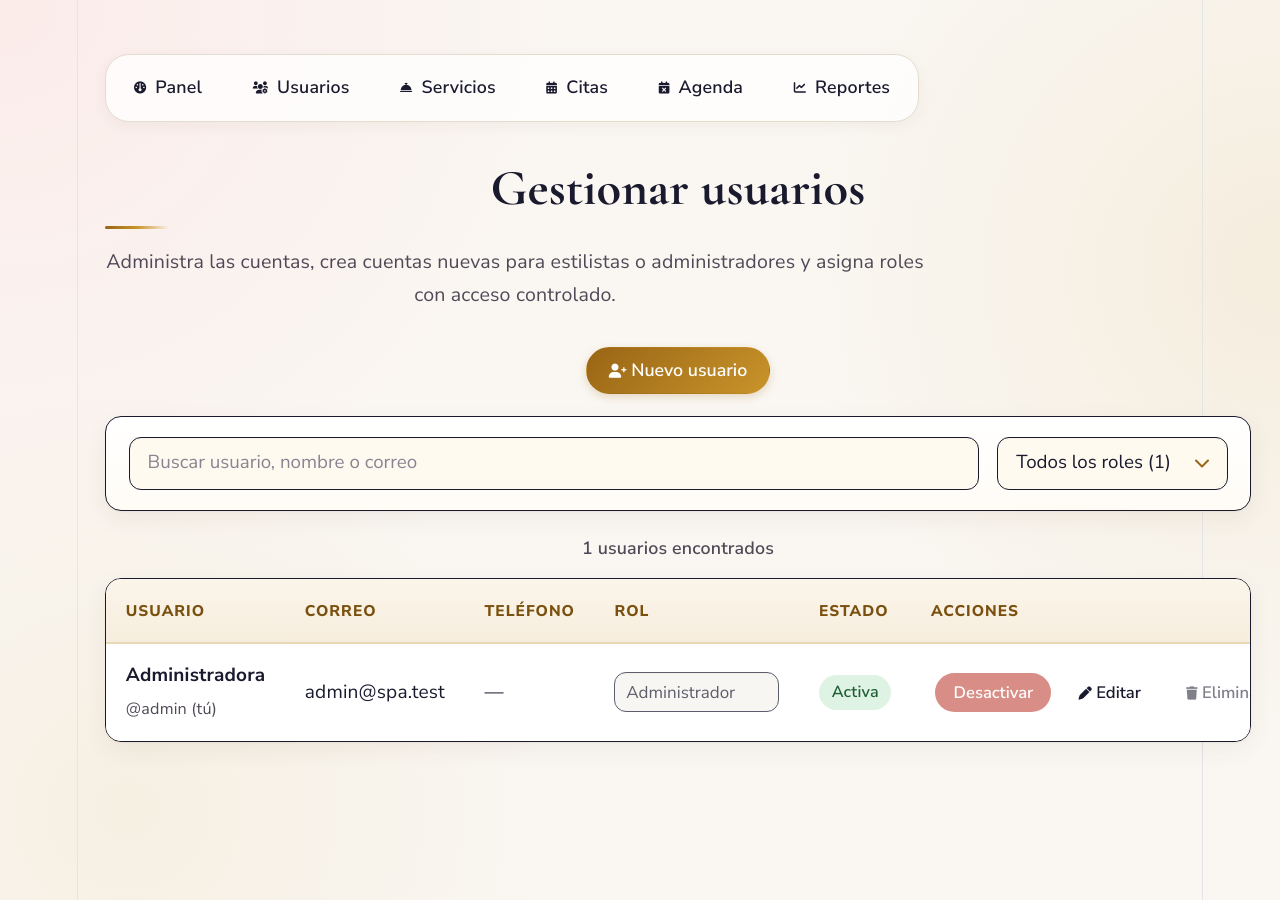
Test: AdminUsers › crea una cuenta con el rol elegido y recarga la lista
This screenshot has width=1280, height=900.
Expected: the text "Administradora" is shown, [126,659,265,692]
Click the button "Nuevo usuario": (678, 370) [586,347,770,394]
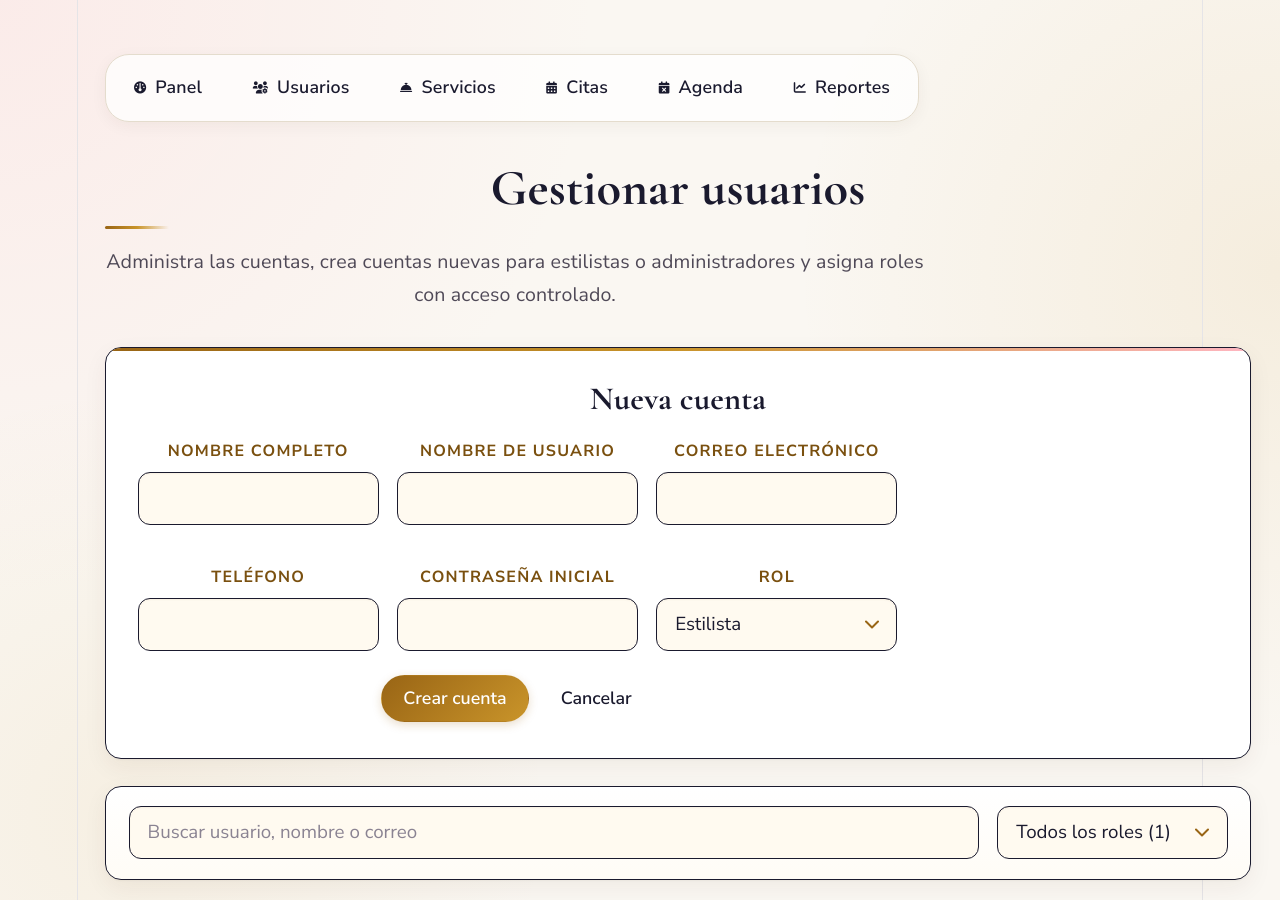
In the field labelled "Nombre completo": (258, 498) [138,472,379,525], type "Lina Gómez"
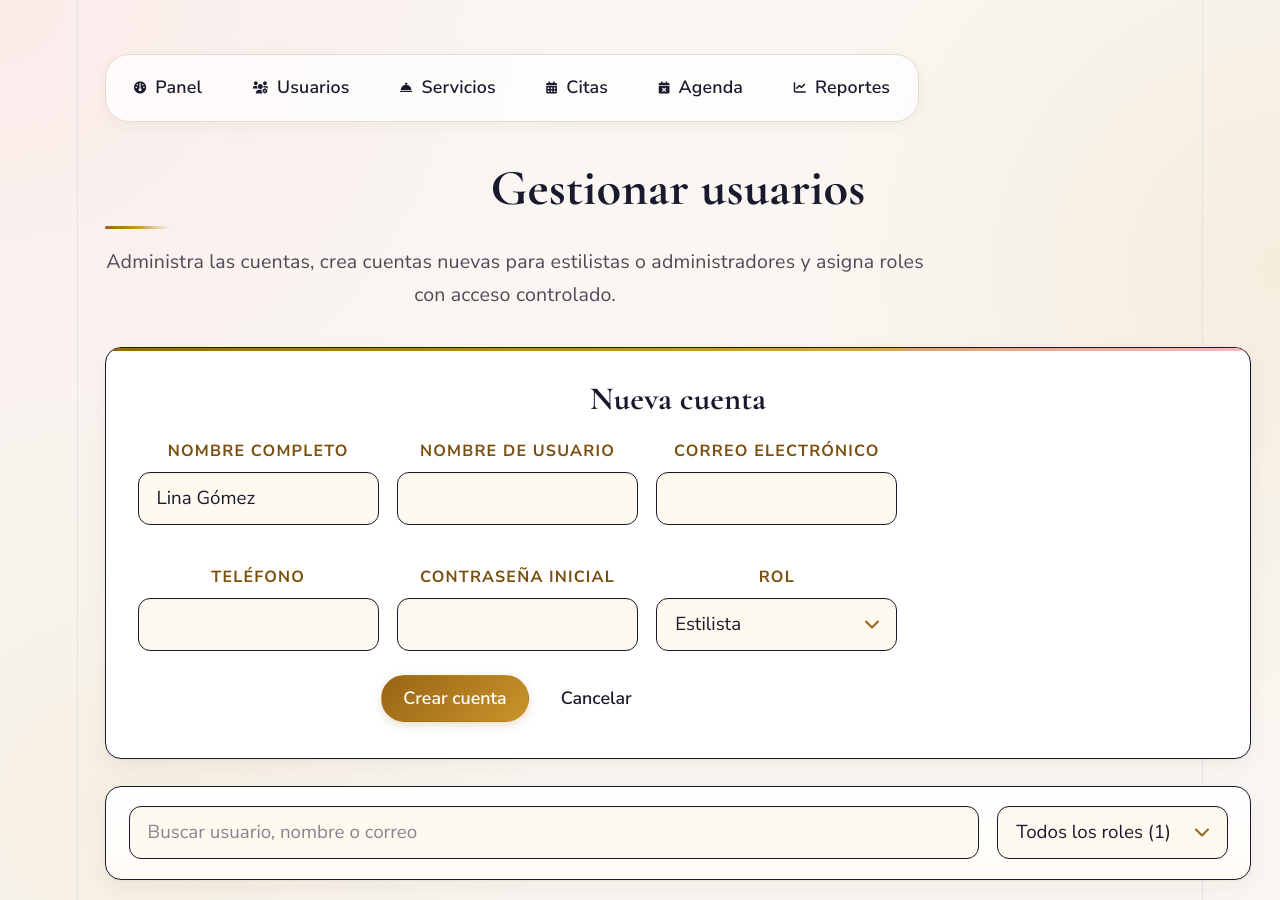
In the field labelled "Nombre de usuario": (517, 498) [397,472,638,525], type "lina"
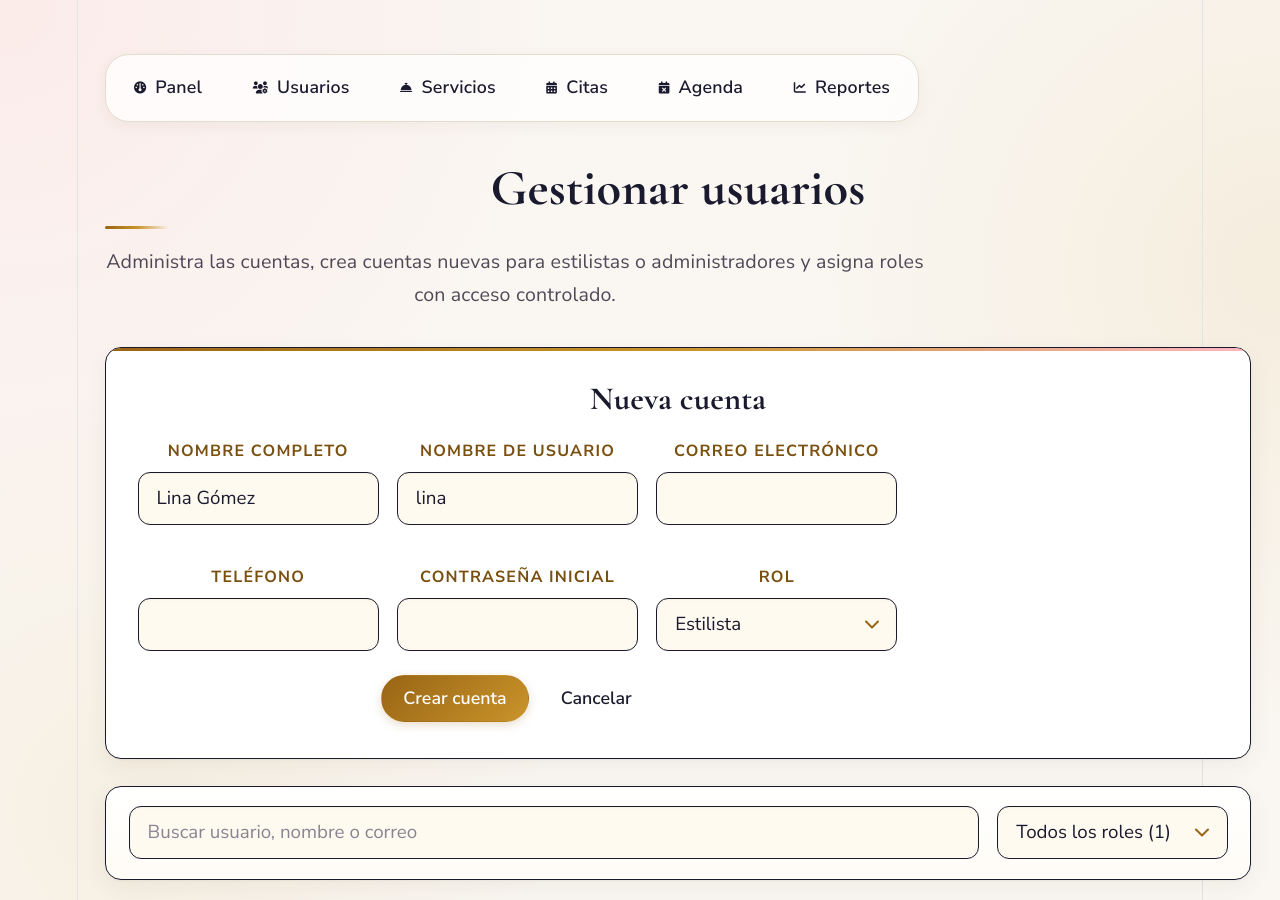
In the field labelled "Correo electrónico": (777, 498) [656,472,898,525], type "lina@spa.test"
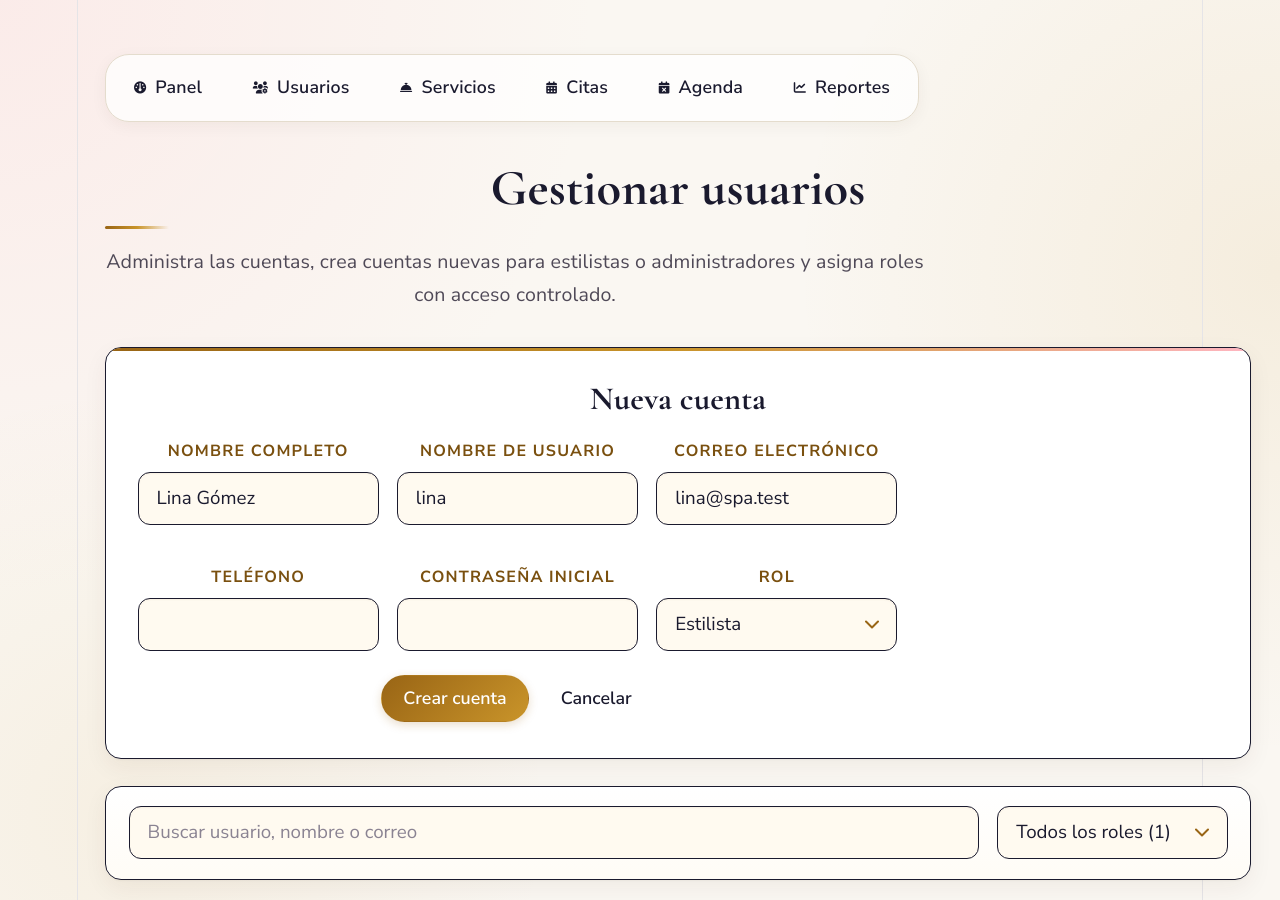
In the password field labelled "Contraseña inicial": (517, 625) [397,598,638,651], type "lina-clave-123"
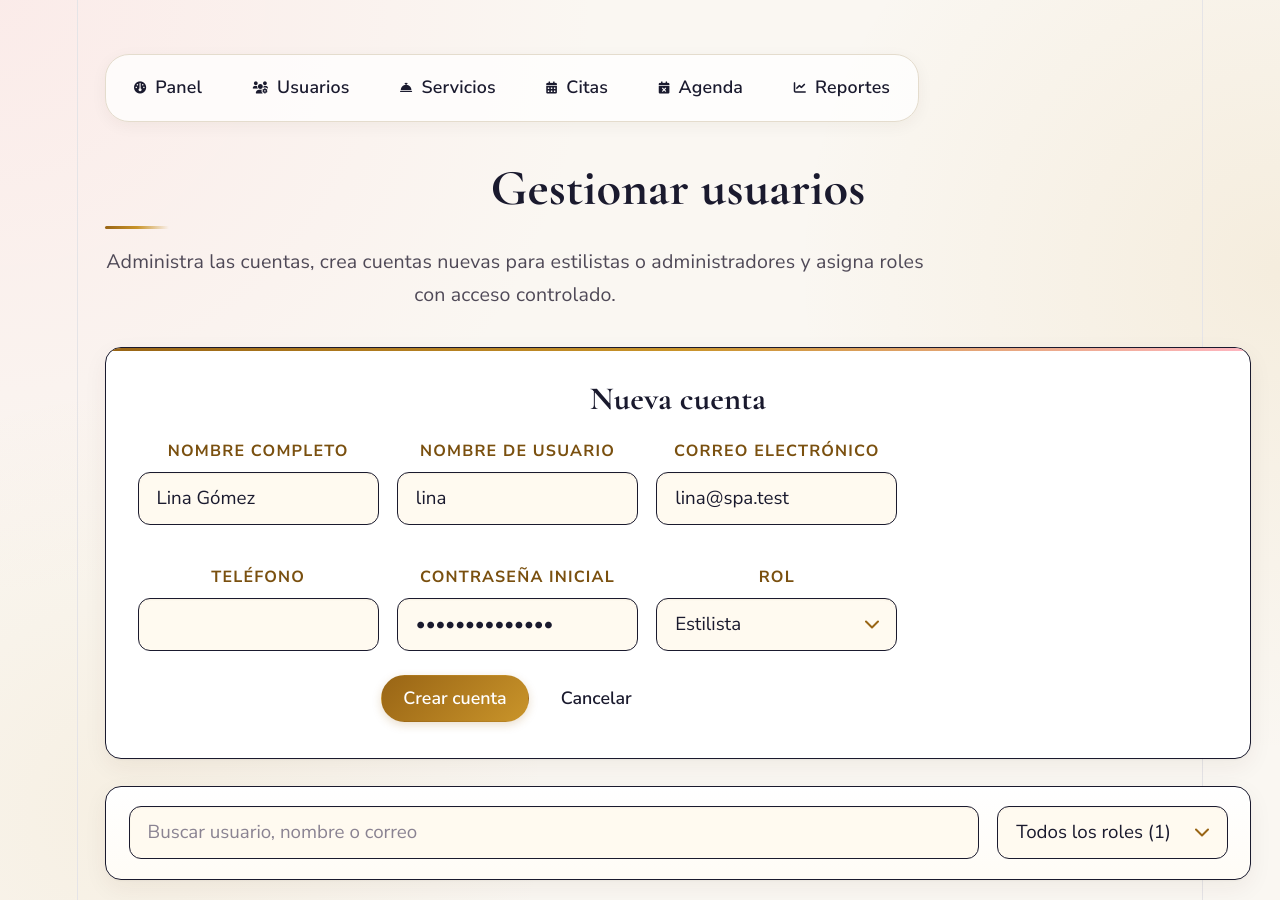
Expected: the dropdown labelled "Rol" shows "Estilista", [656,598,898,651]
Click the button "Crear cuenta": (455, 699) [381,675,529,722]
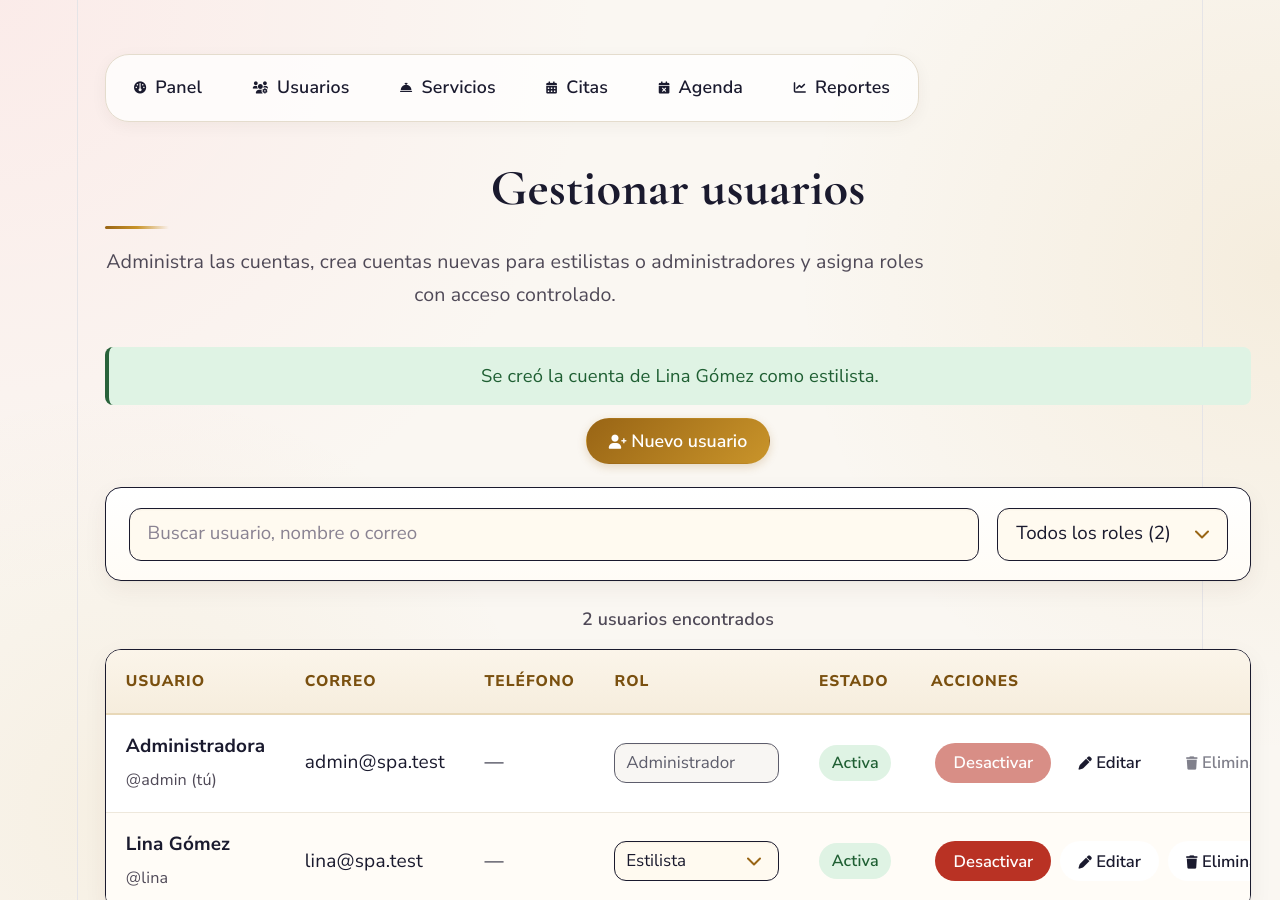
Expected: the text "Se creó la cuenta de Lina Gómez como estilista." is shown, [105,347,1251,405]
Expected: the text "Lina Gómez" is shown, [126,831,230,857]
Expected: the button "Crear cuenta" is gone
